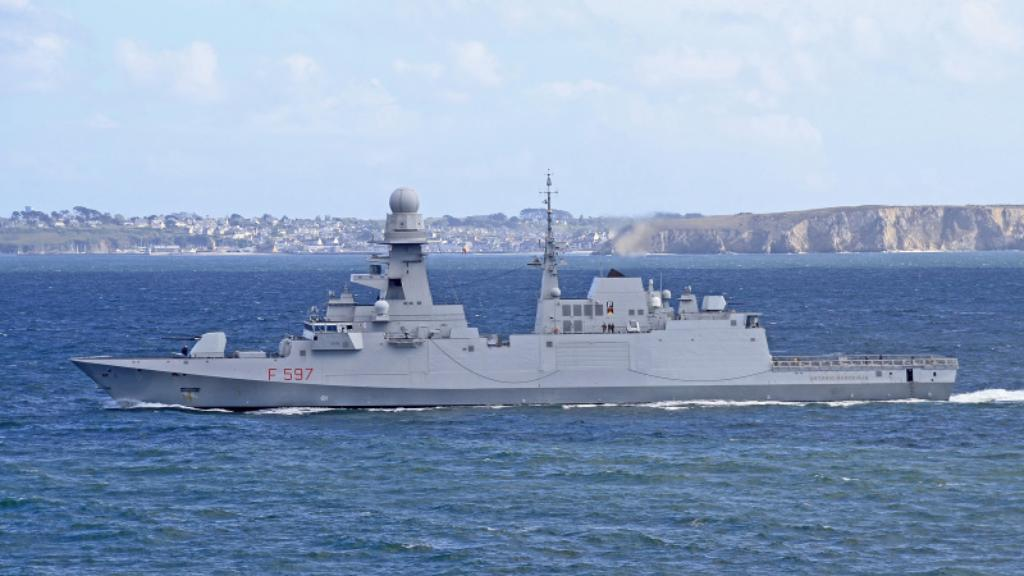Warship: (70, 150, 956, 414)
